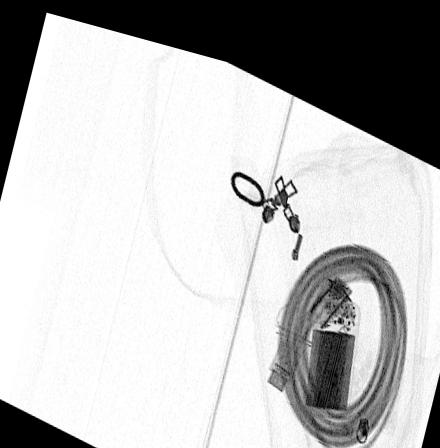Powerbank: (301, 281, 360, 398)
